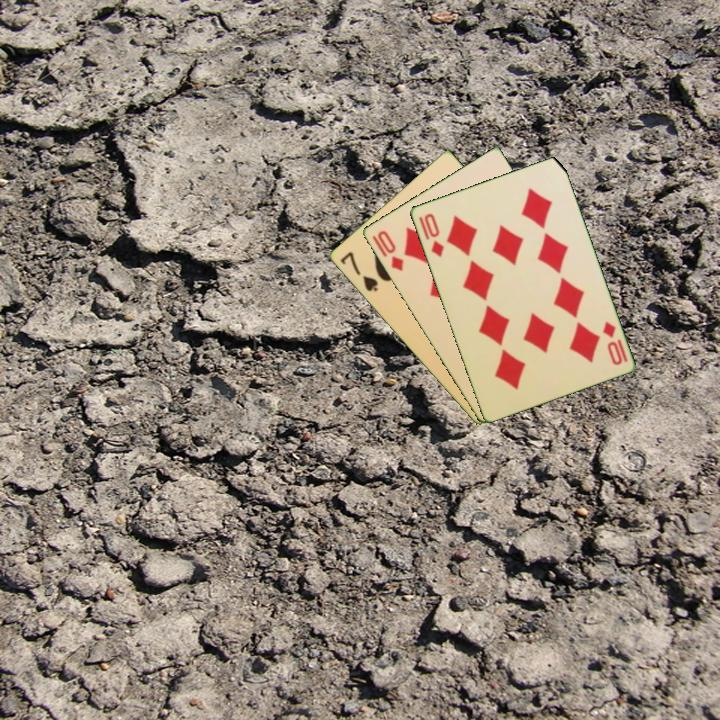10d: (368, 227, 406, 274), (599, 317, 630, 368), (420, 209, 447, 260)
7s: (336, 248, 380, 294)
